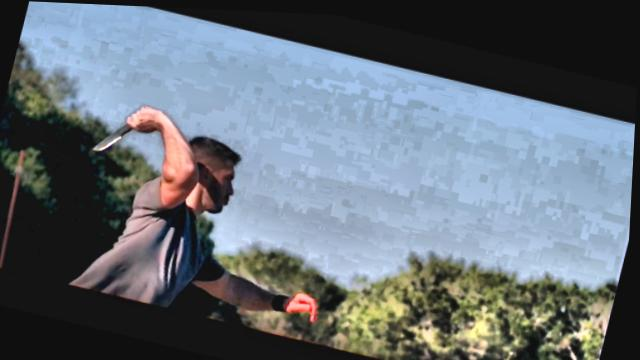knife: (88, 89, 169, 168)
